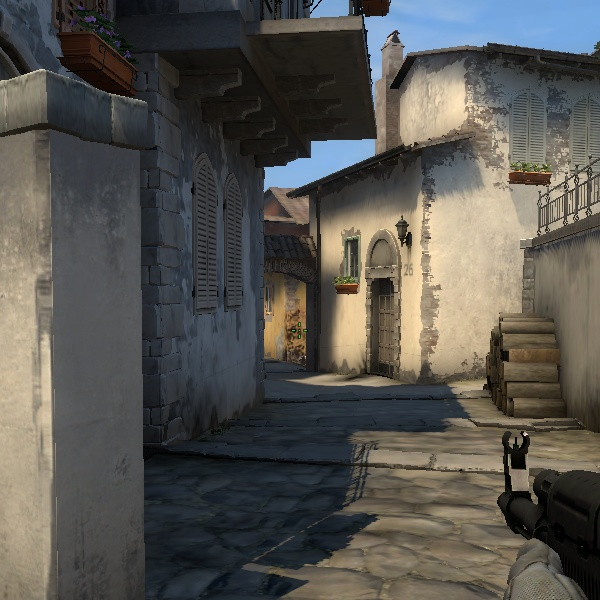t_body: (277, 325, 308, 363)
